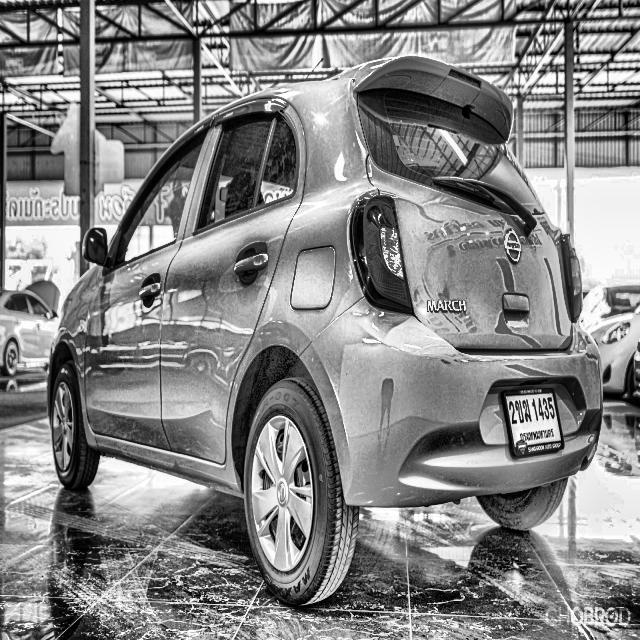license-plate: (492, 368, 572, 467)
